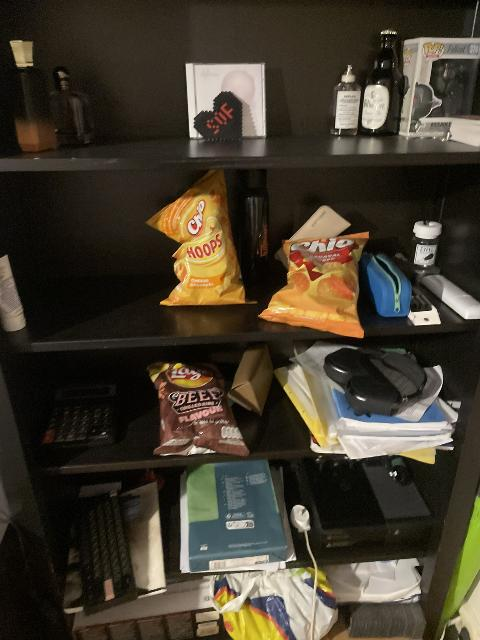Chio Cascaval 125g: (255, 229, 367, 337)
Chio Hula Hoops Cheese 70g: (146, 169, 255, 306)
Lays Beef Grilled Ribs 125g: (146, 361, 249, 457)
